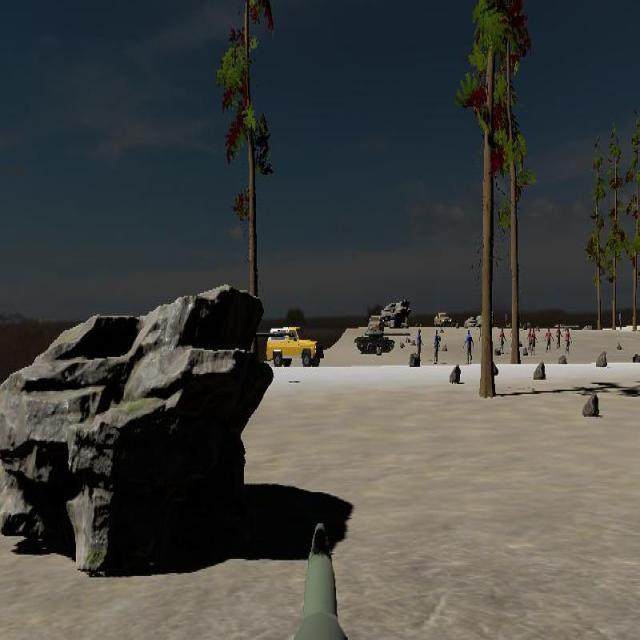Tank: (354, 328, 410, 355)
car: (267, 326, 323, 368)
